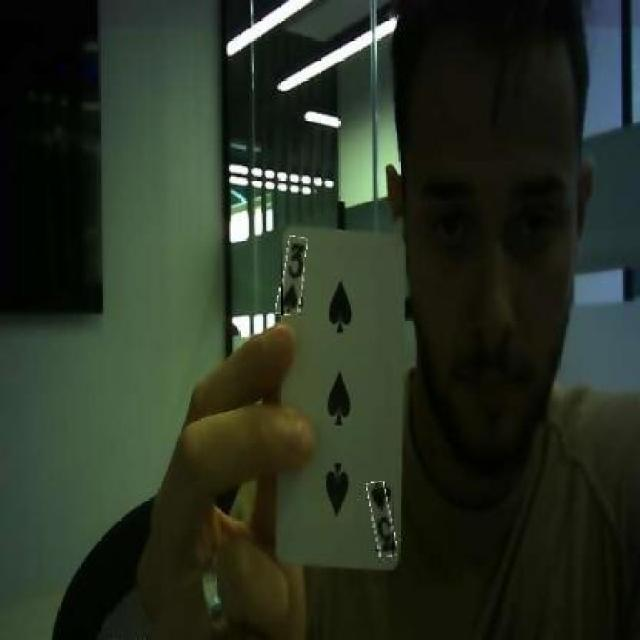3S: (280, 237, 305, 315), (371, 481, 394, 557)
